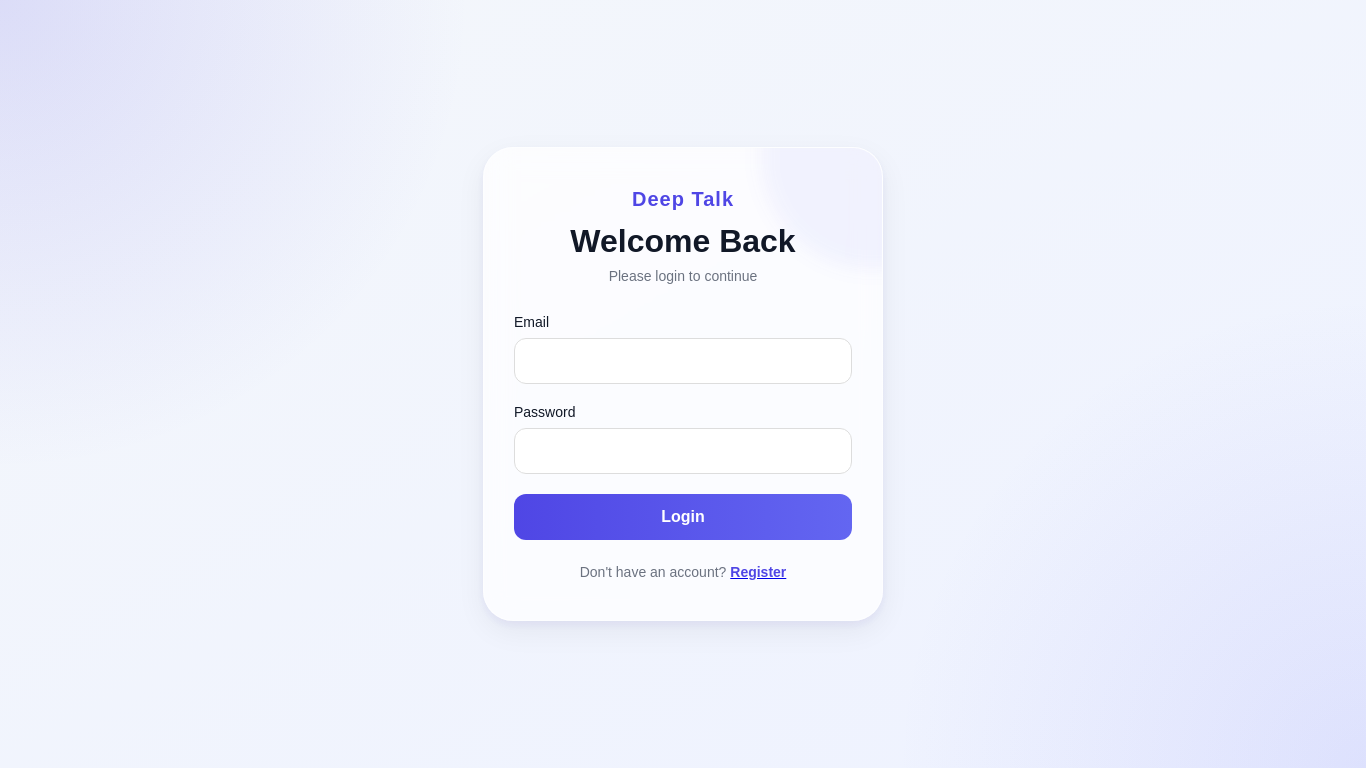
Test: Register spec › should display register page correctly
Click the text "Register".
click(758, 572)  # box [730,564,786,580]
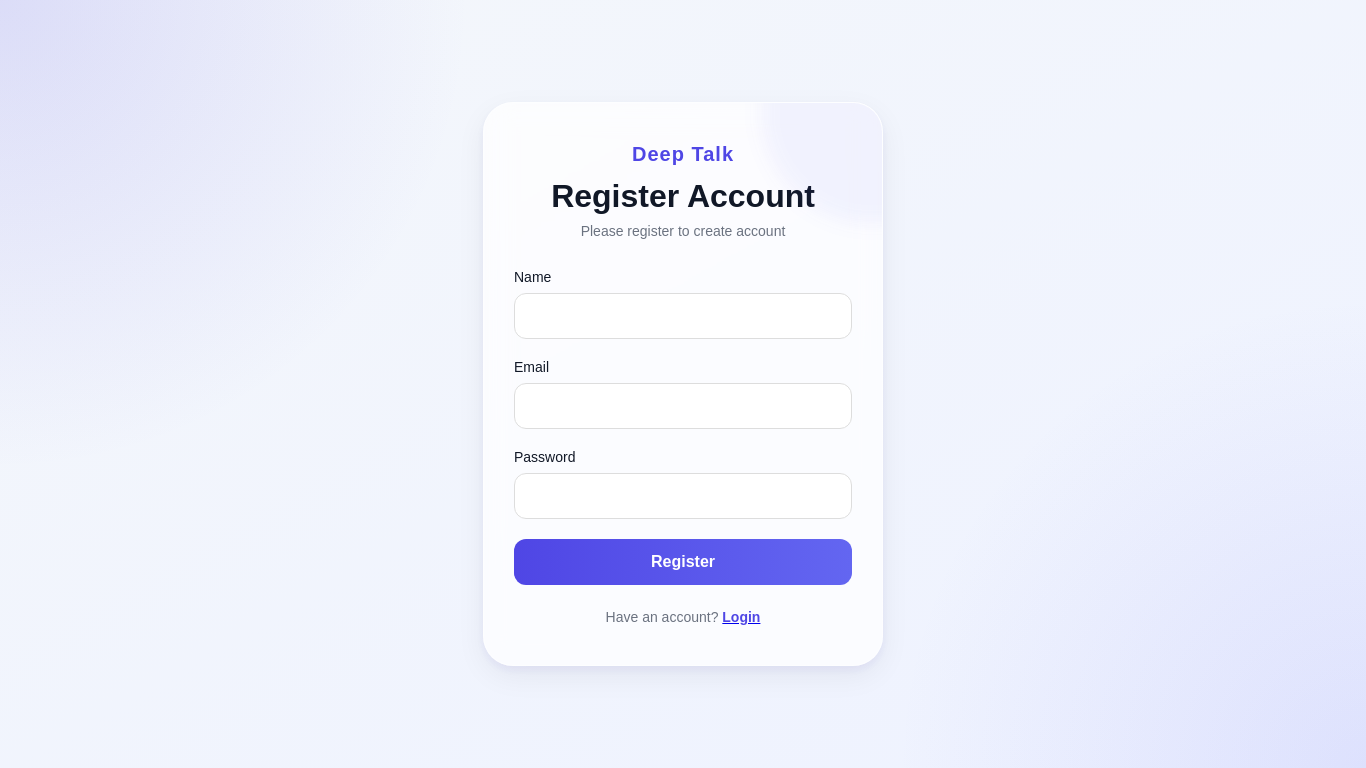
Check: the text "Name" is shown, box [514,269,551,285]
Check: the field with test id "name-input" is shown, box [514,293,852,339]
Check: the button "Register" is shown, box [514,539,852,585]
